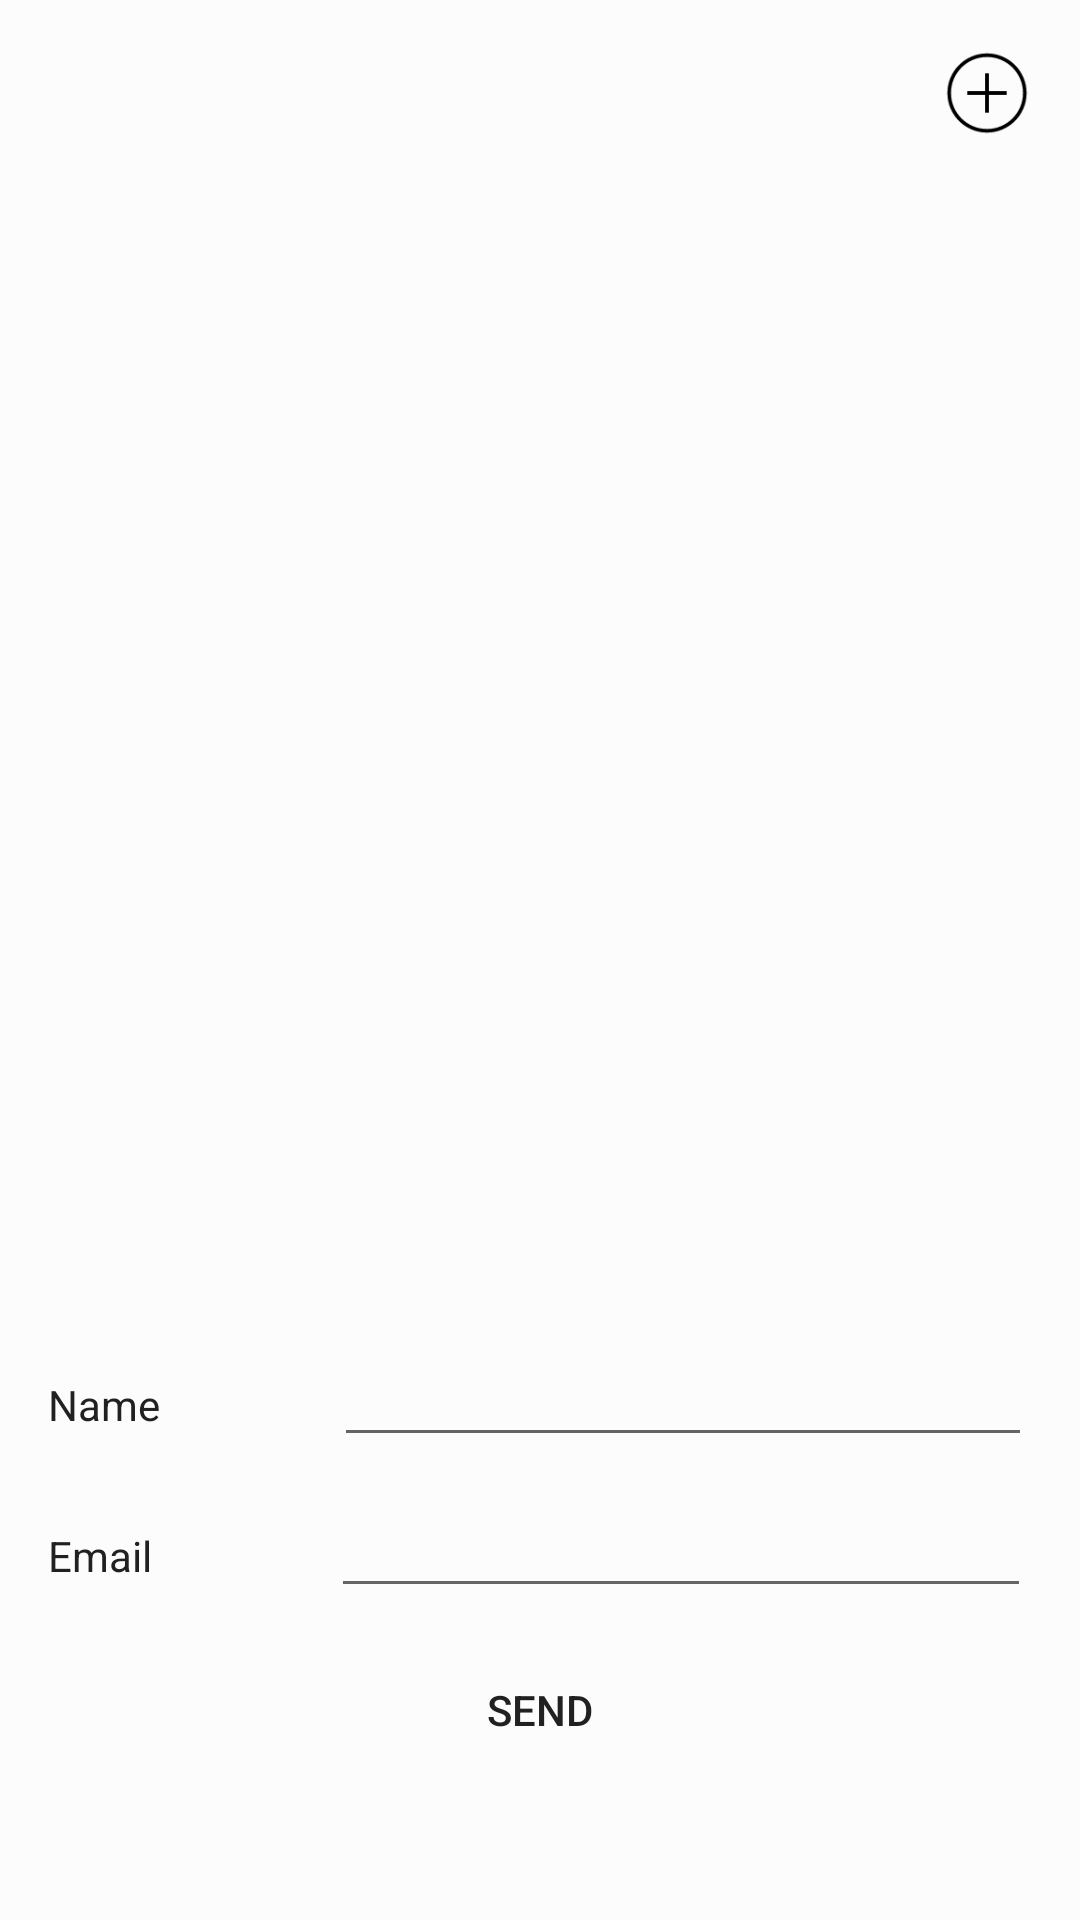

Screen size 1080 x 1920. Icon name, then its box in pixels as {"left": x1, "top": y1, "right": x2, "bottom": y2}:
plus: {"left": 947, "top": 53, "right": 1027, "bottom": 133}
